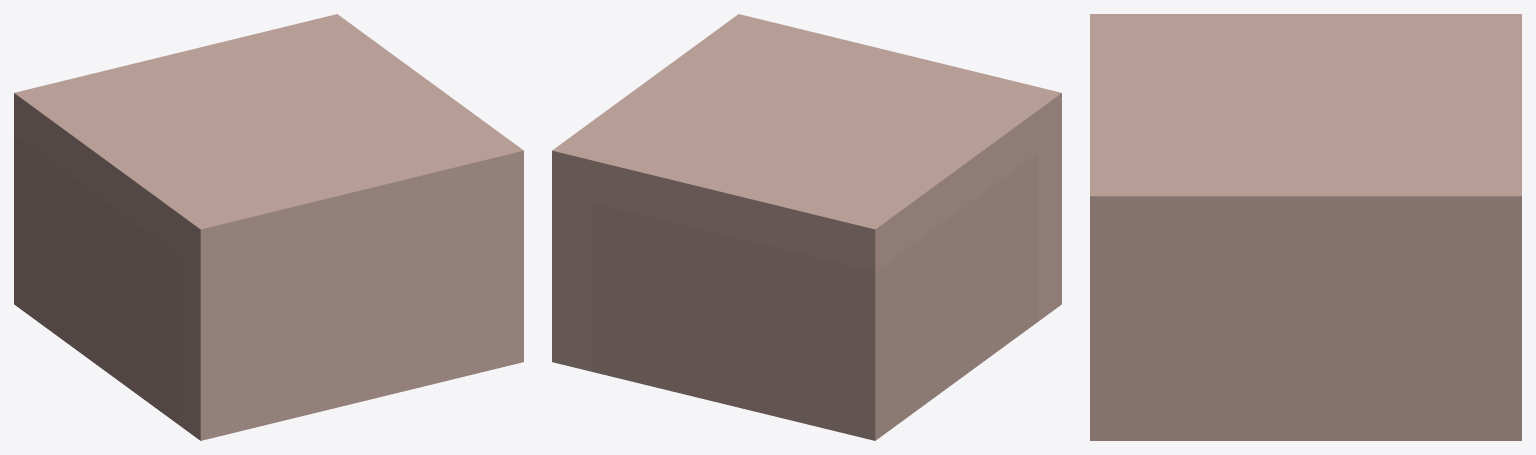
Rendered from roca_coralina_01.glb.
3 views of the same model, side by side, from view 1: azimuth 30°, elevation 25°; view 2: azimuth 150°, elevation 25°; view 3: azimuth 270°, elevation 25° (orthographic). The views are drawn at different scales.
Visible parts, largest first — view 1: roca_coralina_01; view 2: roca_coralina_01; view 3: roca_coralina_01.
Part boxes in pixels (left/top/right/bottom): roca_coralina_01: left=14, top=14, right=523, bottom=440; roca_coralina_01: left=552, top=14, right=1061, bottom=440; roca_coralina_01: left=1090, top=14, right=1521, bottom=440.
Size of the model in its own units: 0.8 by 0.5 by 0.8.
